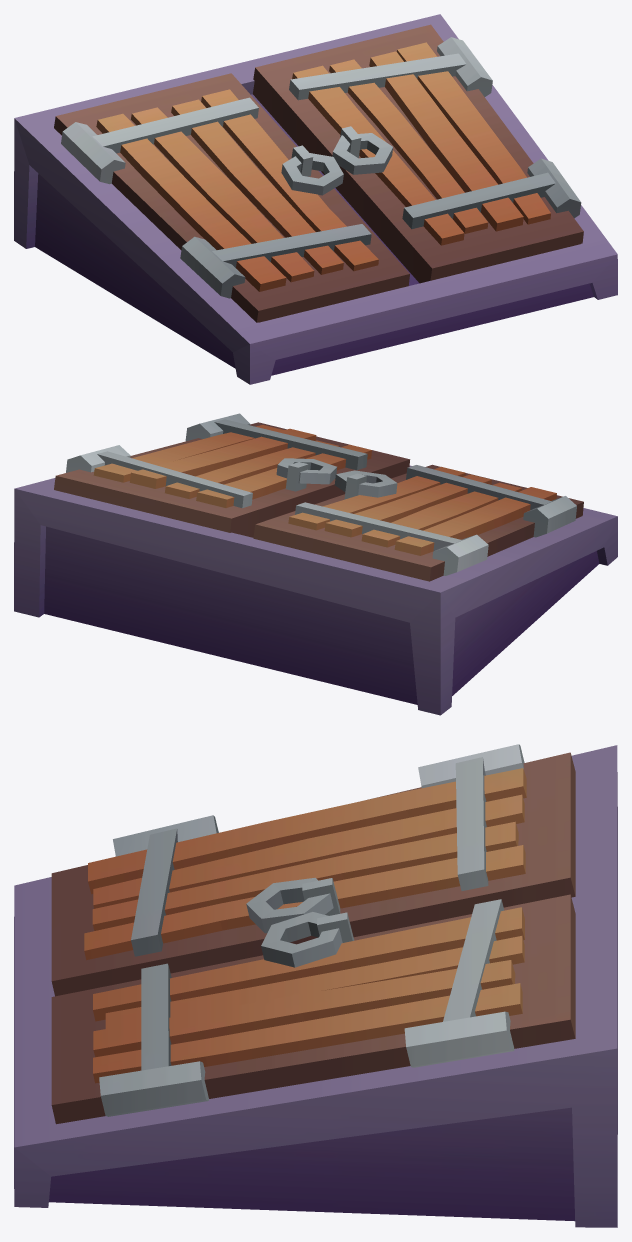
Rendered from cellarDoor.glb.
3 views of the same model, one above another, from view 1: azimuth 30°, elevation 25°; view 2: azimuth 150°, elevation 25°; view 3: azimuth 270°, elevation 25° (orthographic). The views are drawn at different scales.
Parts seen in each view (by area): view 1: cellarDoor; view 2: cellarDoor; view 3: cellarDoor.
Boxes of the visible parts, x1,y1,x2,y2 form: cellarDoor: (14,14,617,384); cellarDoor: (14,413,617,715); cellarDoor: (14,744,617,1227).
Bounding box in the file's own units: 3 × 0.9205 × 2.52.
Materials: 1 (1 with a texture image).
